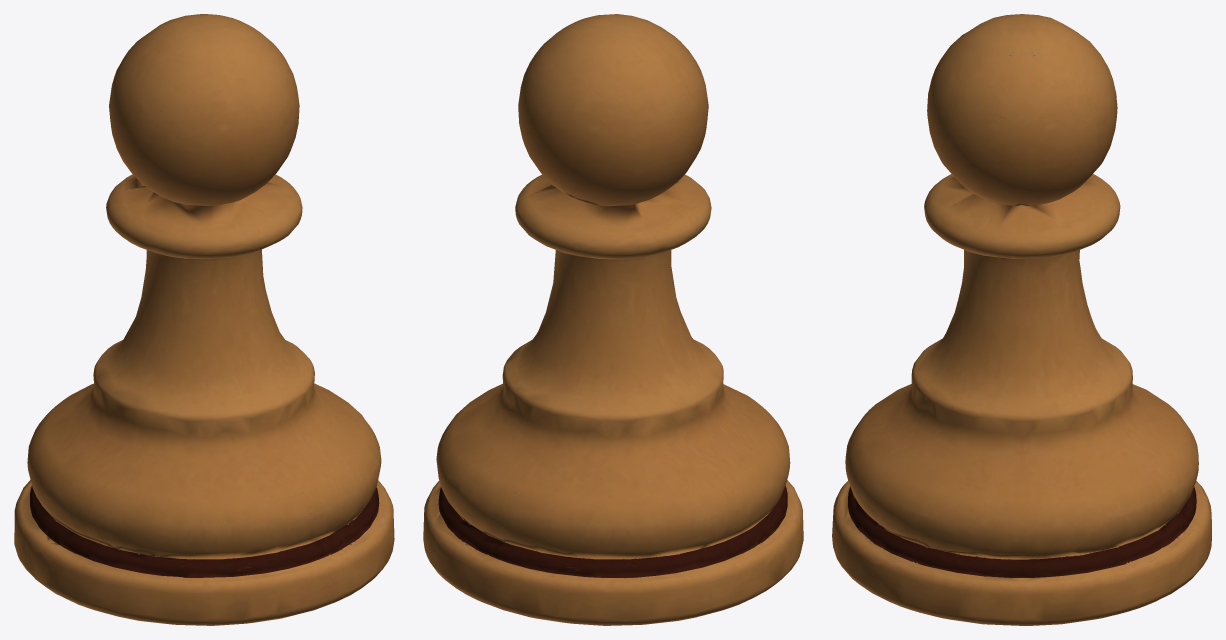
Rendered from pawn_light.glb.
3 views of the same model, side by side, from view 1: azimuth 30°, elevation 25°; view 2: azimuth 150°, elevation 25°; view 3: azimuth 270°, elevation 25° (orthographic).
Visible parts, largest first — view 1: geometry_0; view 2: geometry_0; view 3: geometry_0.
Part boxes in pixels (x1,y1,x2,y2): geometry_0: [14, 14, 394, 625]; geometry_0: [423, 14, 803, 625]; geometry_0: [832, 14, 1211, 625].
Bounding box in the file's own units: 0.485 × 0.74 × 0.4852.
Materials: 1 (1 with a texture image).
